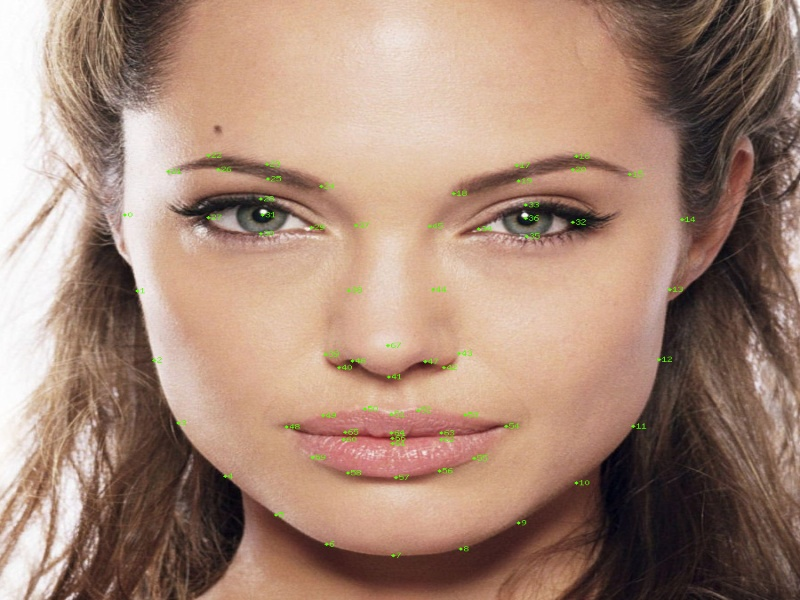face: (155, 49, 647, 497)
